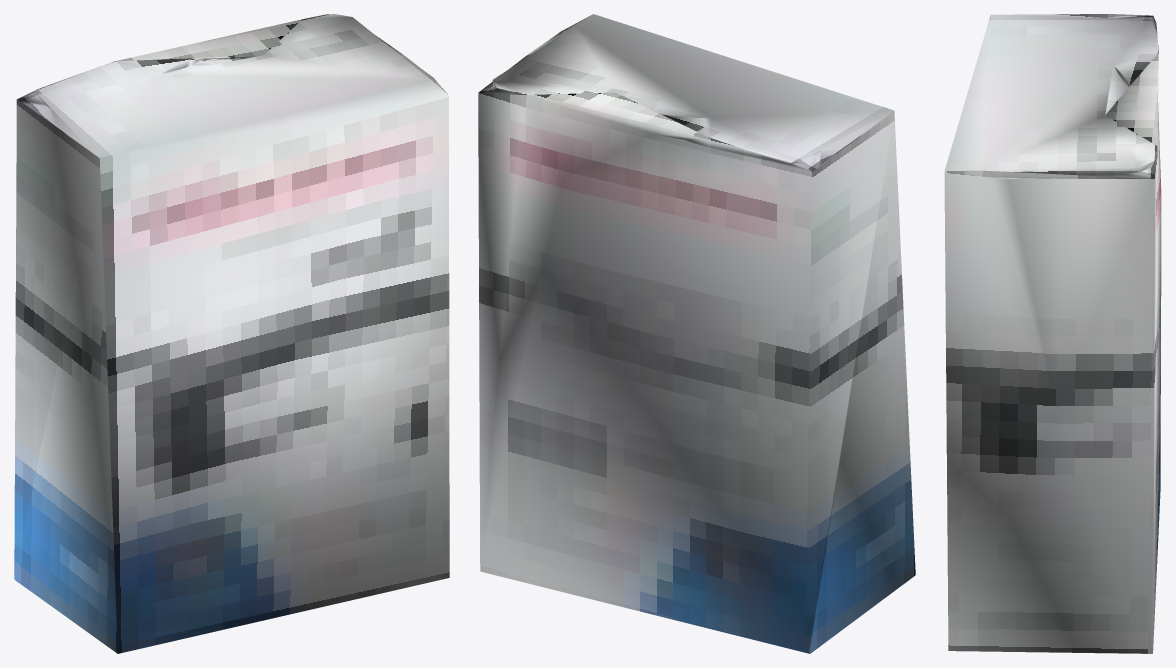
The model's file is Office_Depot_HP_950XL_Ink_Cartridge_Black_CN045AN-low.glb.
3 renders of one model, left to right at view 1: azimuth 30°, elevation 25°; view 2: azimuth 150°, elevation 25°; view 3: azimuth 270°, elevation 25°, orthographic.
Visible parts, largest first — view 1: Office_Depot_HP_950XL_Ink_Cartridge_Black_CN045AN; view 2: Office_Depot_HP_950XL_Ink_Cartridge_Black_CN045AN; view 3: Office_Depot_HP_950XL_Ink_Cartridge_Black_CN045AN.
Part boxes in pixels (<box>): Office_Depot_HP_950XL_Ink_Cartridge_Black_CN045AN: <box>14,14,449,653</box>; Office_Depot_HP_950XL_Ink_Cartridge_Black_CN045AN: <box>478,14,915,653</box>; Office_Depot_HP_950XL_Ink_Cartridge_Black_CN045AN: <box>944,14,1161,653</box>.
Size of the model in its own units: 0.0838 by 0.1167 by 0.047.
Materials: 1 (1 with a texture image).
